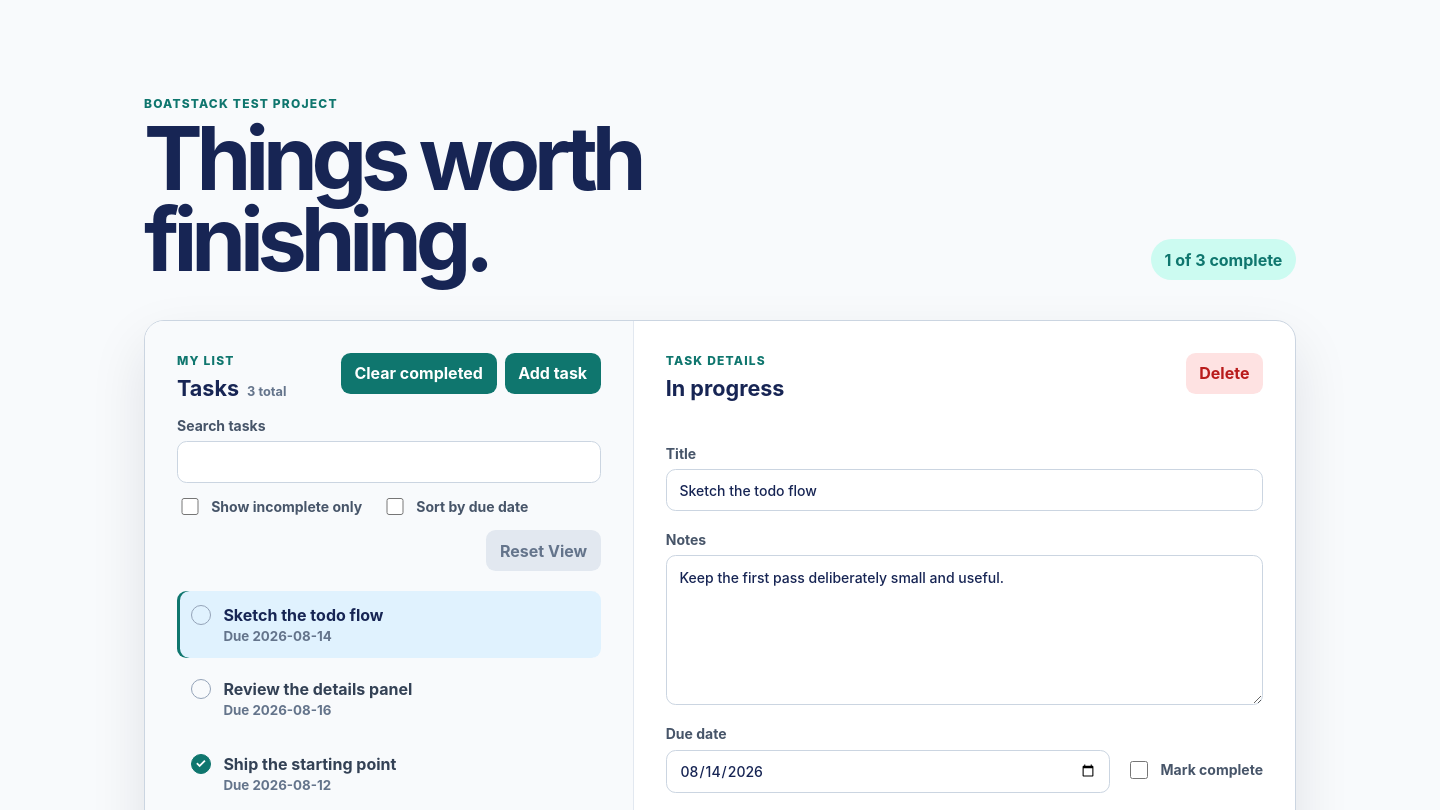
Test: App › supports adding, editing, completing, selecting, and deleting todos
This screenshot has width=1440, height=810.
Expected: the heading "Things worth finishing." is shown, [144,105,640,292]
Click the button "Add task": (553, 374) [504,353,601,394]
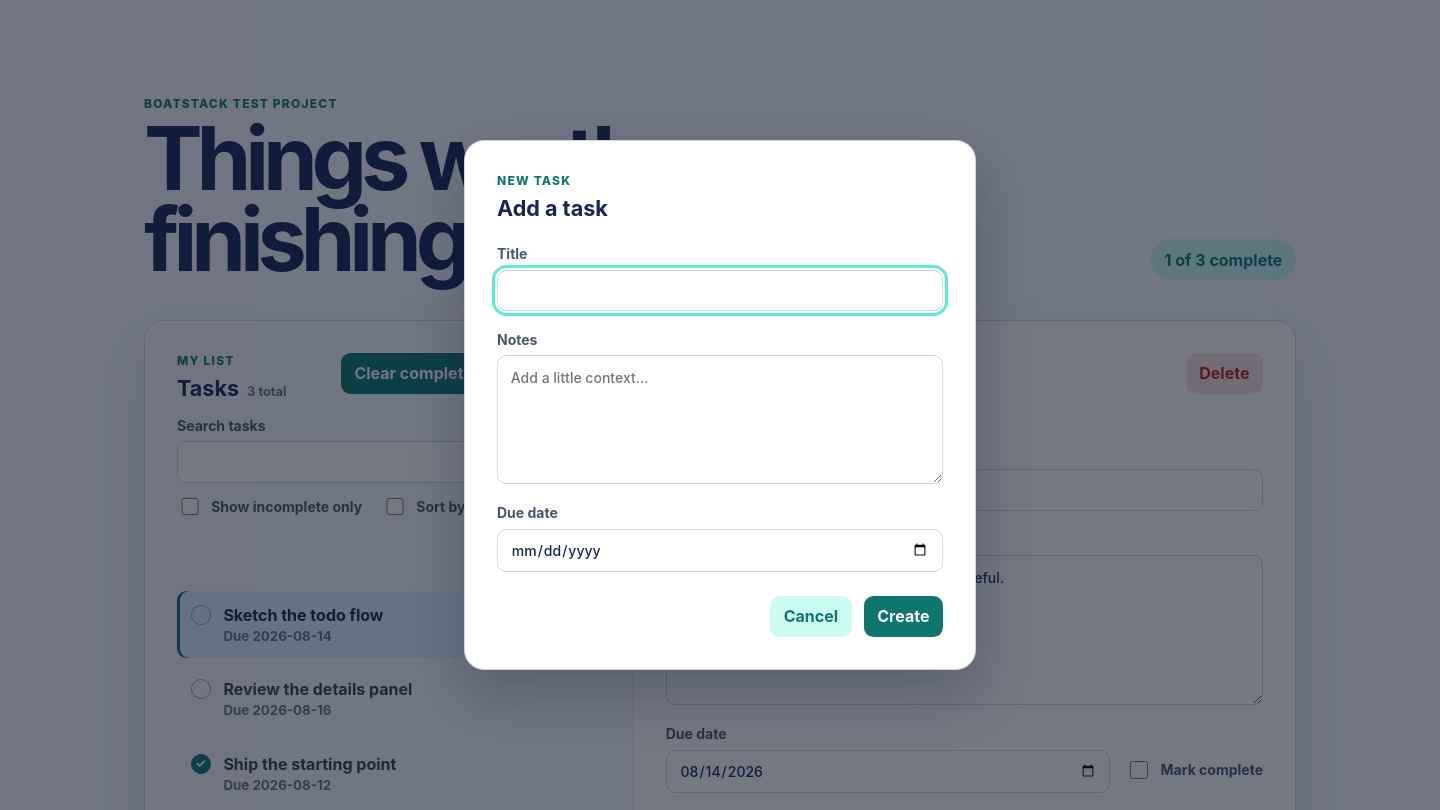
In the field labelled "Title": (720, 290) [497,270,943,311], type "Write component tests"
In the text box labelled "Notes": (720, 420) [497,355,943,484], type "Cover the complete workflow."
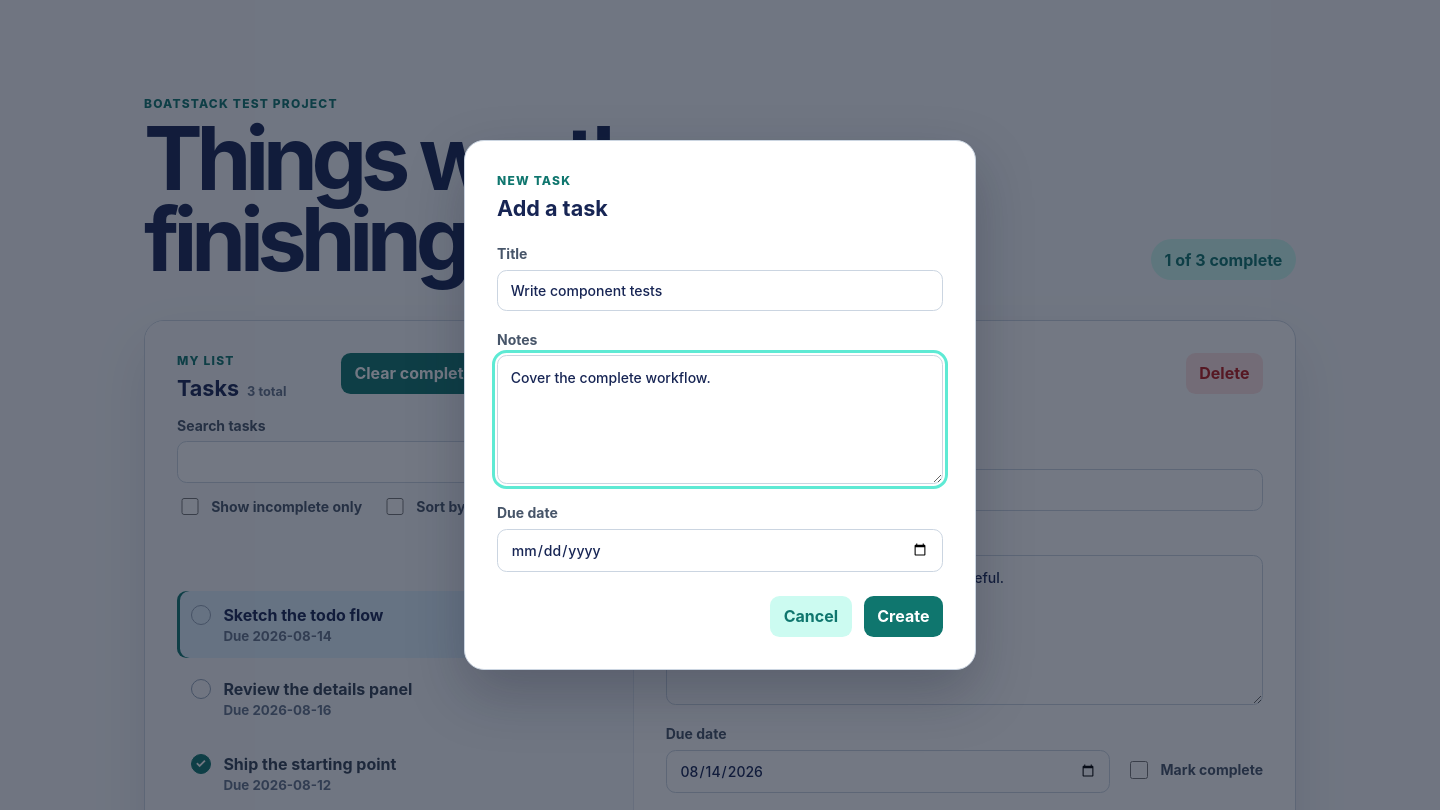
Click the button "Create": (903, 616) [864,596,943,637]
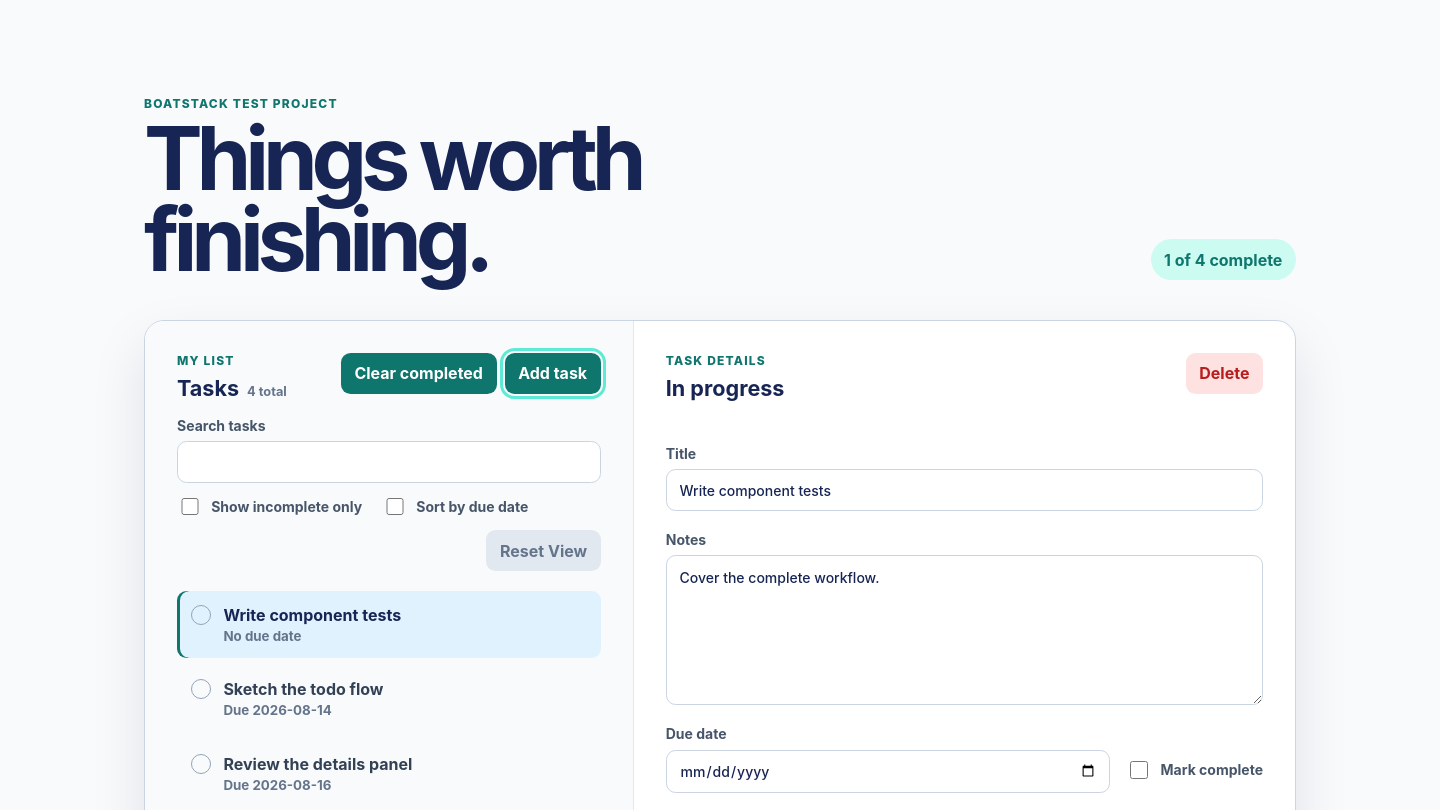
Click the checkbox labelled "Mark complete": (1139, 770) [1130,761,1148,779]
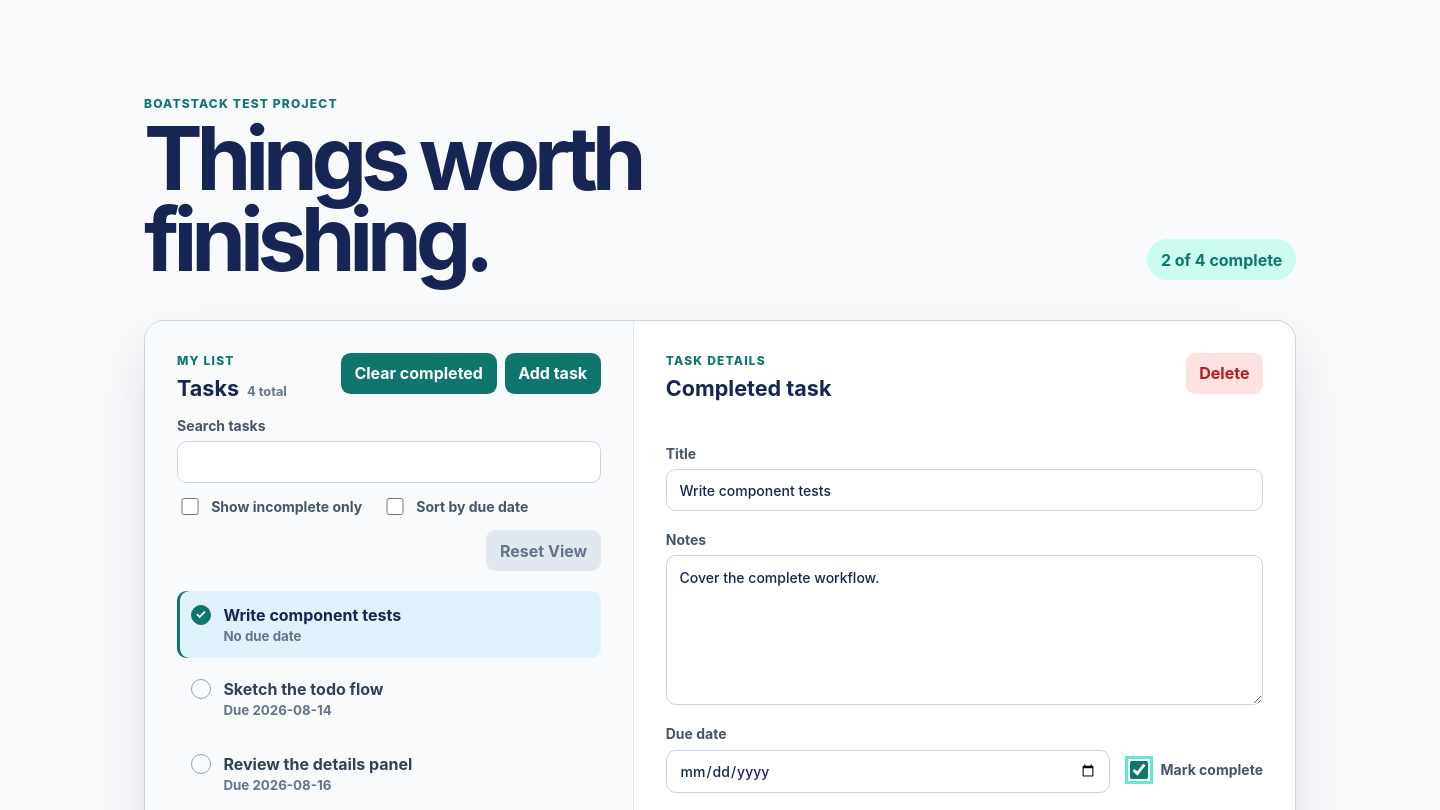
Now the text "2 of 4 complete" is shown, box [1147,239,1296,280]
Click the button "Review the details panel Due 2026-08-16": (389, 773) [177,740,601,806]
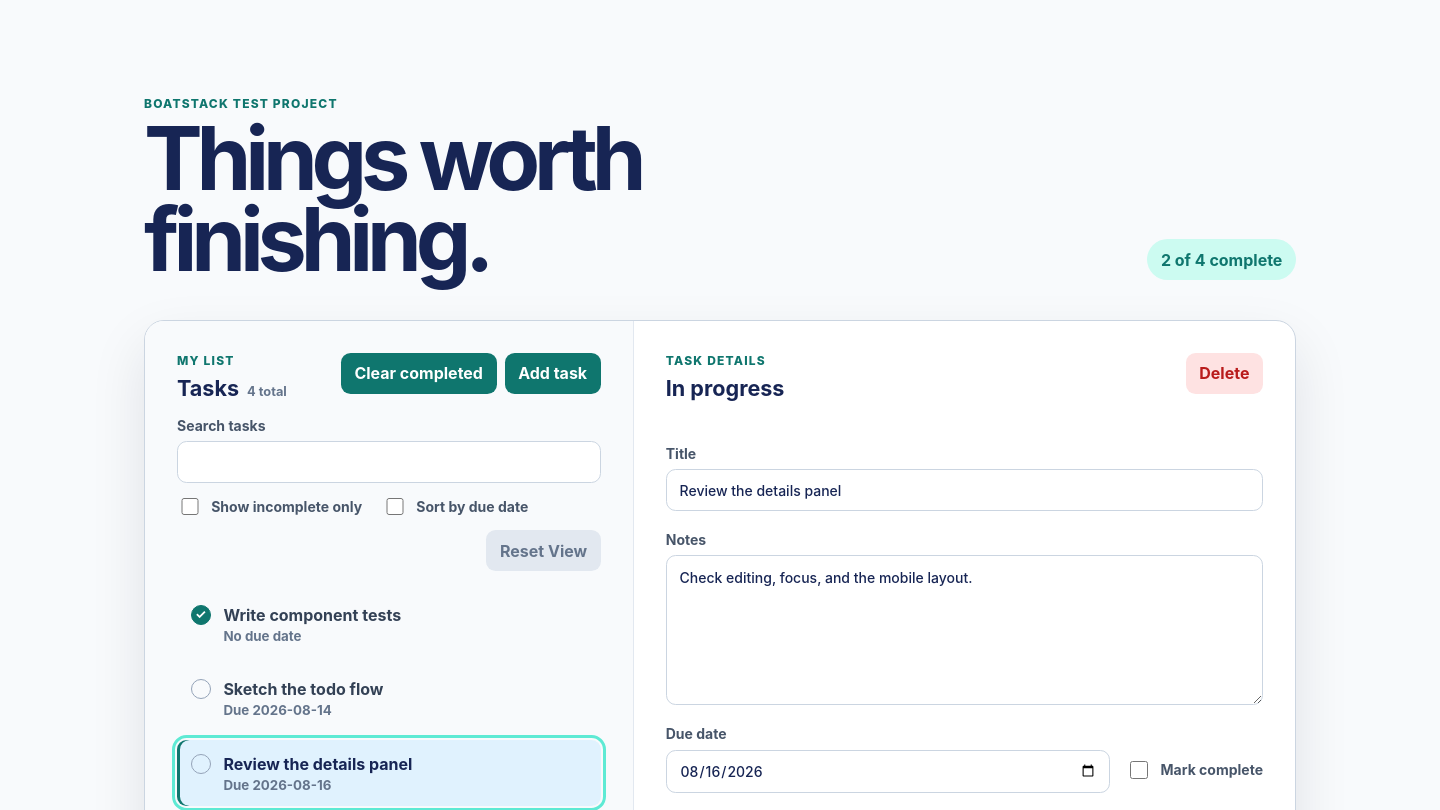
Now the field labelled "Title" holds "Review the details panel", box [666,470,1263,511]
Click the button "Delete": (1224, 374) [1186,353,1263,394]
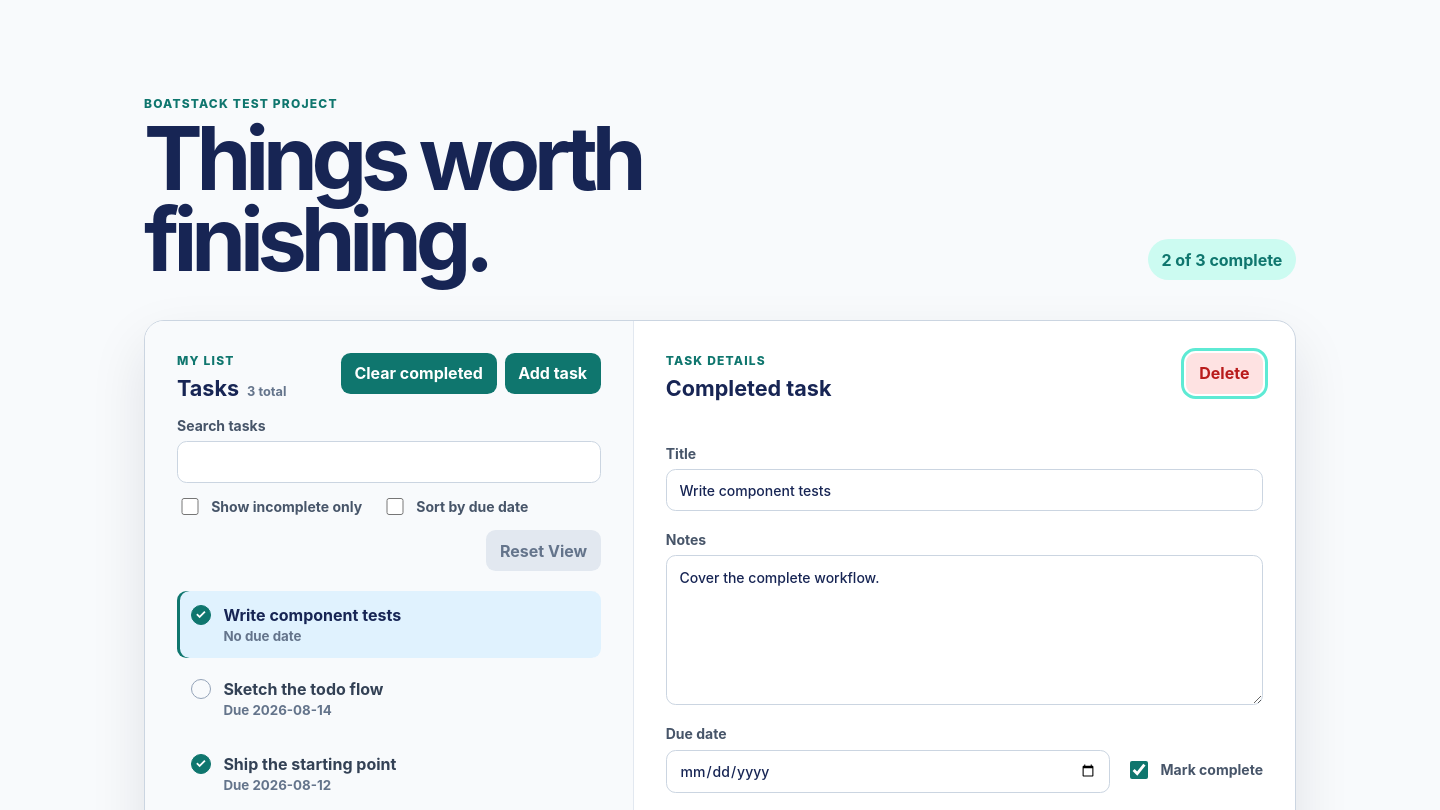
Now the button "Review the details panel" is gone
